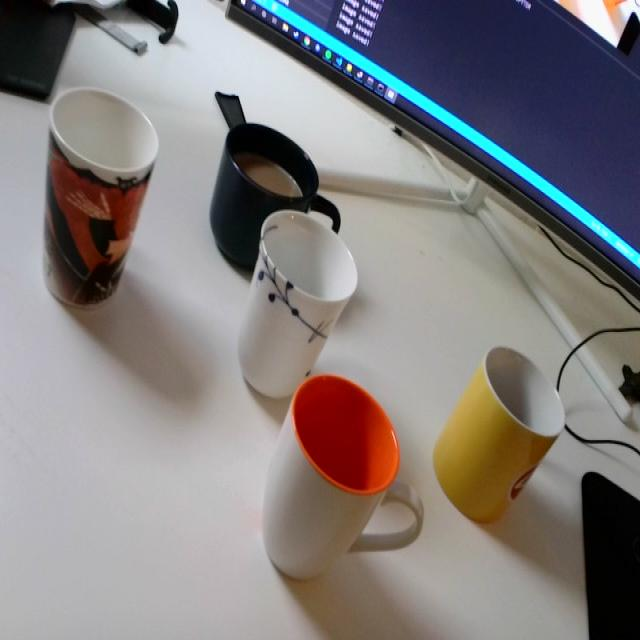Cocio Cup: (431, 344, 568, 528)
Cup: (212, 106, 343, 269)
Halloween cup: (45, 86, 162, 312)
Hand painted cup: (238, 208, 360, 397)
White Cup: (259, 376, 408, 585)
